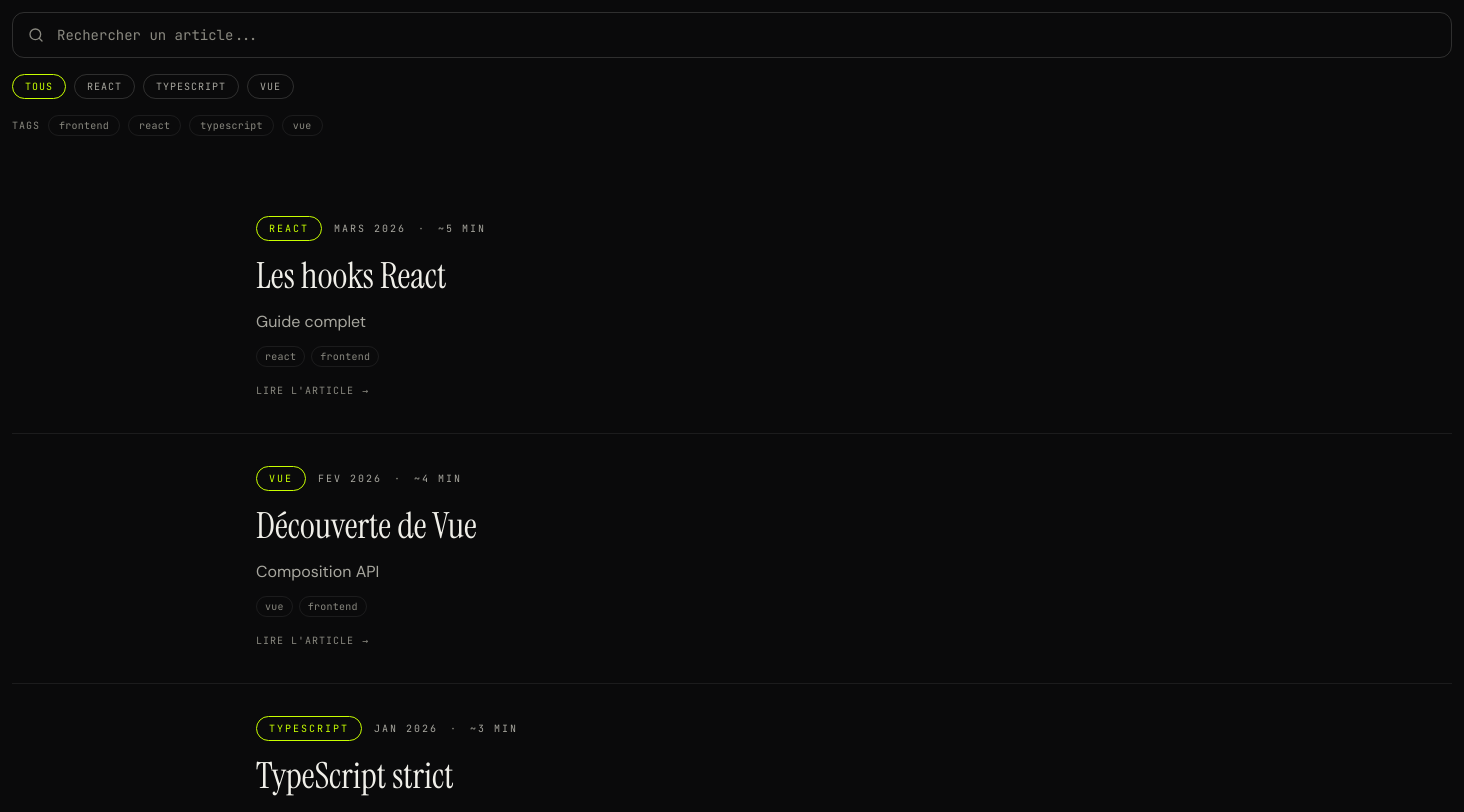
Test: NotesFilters › filtre par tag
Click the button "frontend": (84, 126) [48,115,120,136]
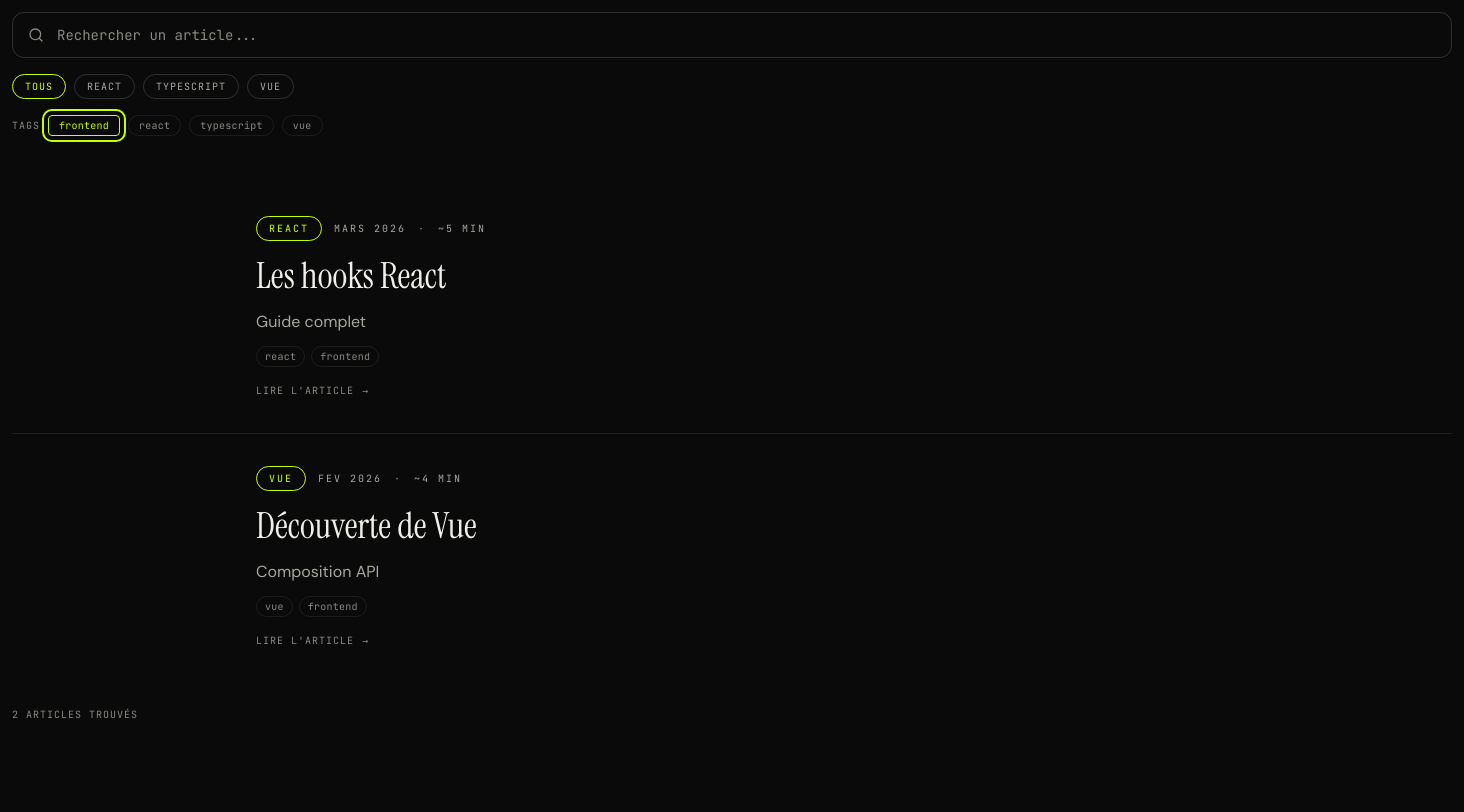
expect the heading "Les hooks React" is shown: met, box [256,252,446,299]
expect the link "TypeScript strict" is gone: met
